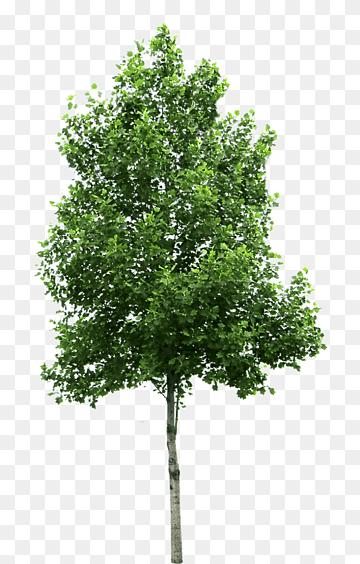tree: (39, 26, 329, 564)
